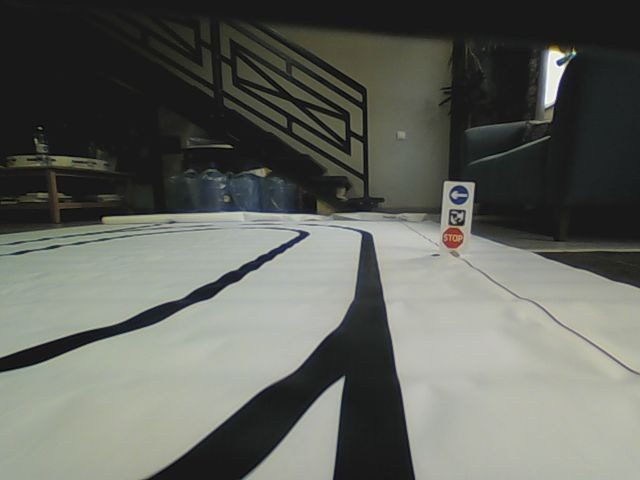Stop: (441, 227, 465, 249)
